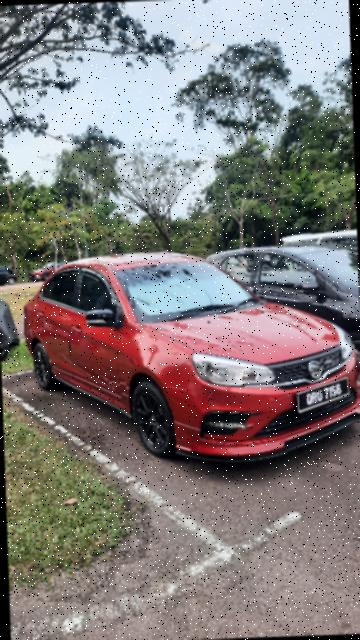License_Plate: (299, 377, 357, 415)
car: (21, 245, 360, 480)
